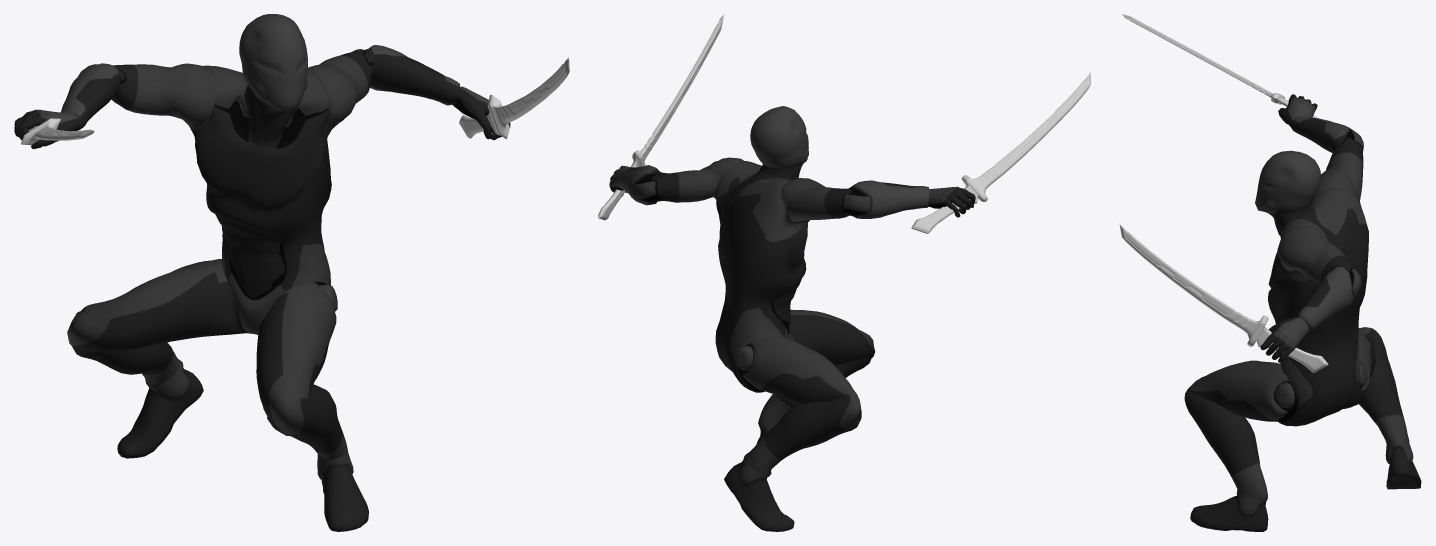
The picture shows the model from 3 angles, left to right: view 1: azimuth 30°, elevation 25°; view 2: azimuth 150°, elevation 25°; view 3: azimuth 270°, elevation 25°; orthographic projection. The views are drawn at different scales.
Visible parts, largest first — view 1: Cyborg_Ninja_Killer, Sword_l, Sword_l001; view 2: Cyborg_Ninja_Killer, Sword_l001, Sword_l; view 3: Cyborg_Ninja_Killer, Sword_l, Sword_l001.
Boxes of the visible parts, x1=… form: Cyborg_Ninja_Killer: x1=14, y1=14, x2=510, y2=531; Sword_l: x1=459, y1=57, x2=569, y2=138; Sword_l001: x1=21, y1=118, x2=94, y2=145; Cyborg_Ninja_Killer: x1=609, y1=106, x2=975, y2=531; Sword_l001: x1=911, y1=73, x2=1090, y2=233; Sword_l: x1=598, y1=14, x2=723, y2=220; Cyborg_Ninja_Killer: x1=1184, y1=94, x2=1421, y2=531; Sword_l: x1=1119, y1=223, x2=1328, y2=372; Sword_l001: x1=1122, y1=14, x2=1318, y2=118.
Bounding box in the file's own units: 162 × 151 × 105.
